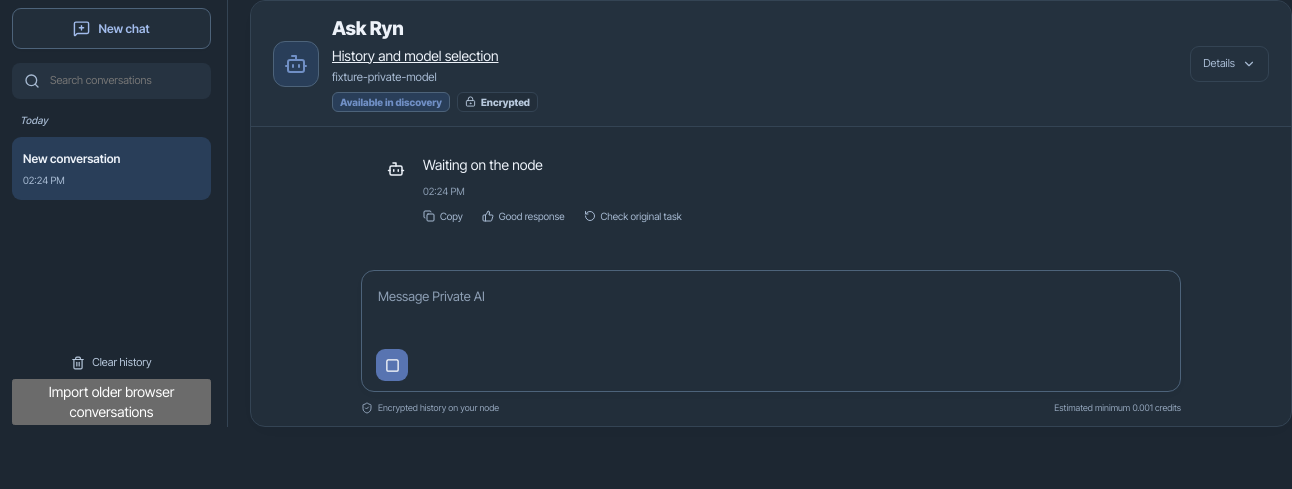
Test: Private AI chat › recovers the composer when the node has no record of the task being cancelled
Expected: the heading "Ask Ryn" is shown, [332,17,404,40]
Expected: the text "Waiting on the node" is shown, [423,156,543,173]
Type "Ready to retry" into the text box labelled "Message Private AI" at (771, 314), box [376,283,1166,345]
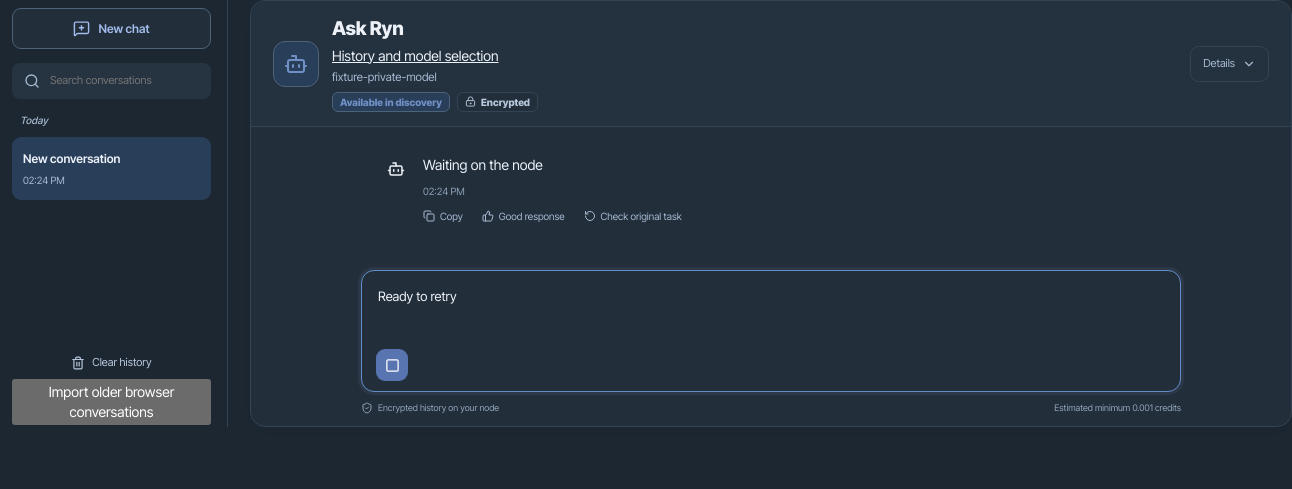
Click the button named "Stop generating" at (392, 365), box [376,349,408,381]
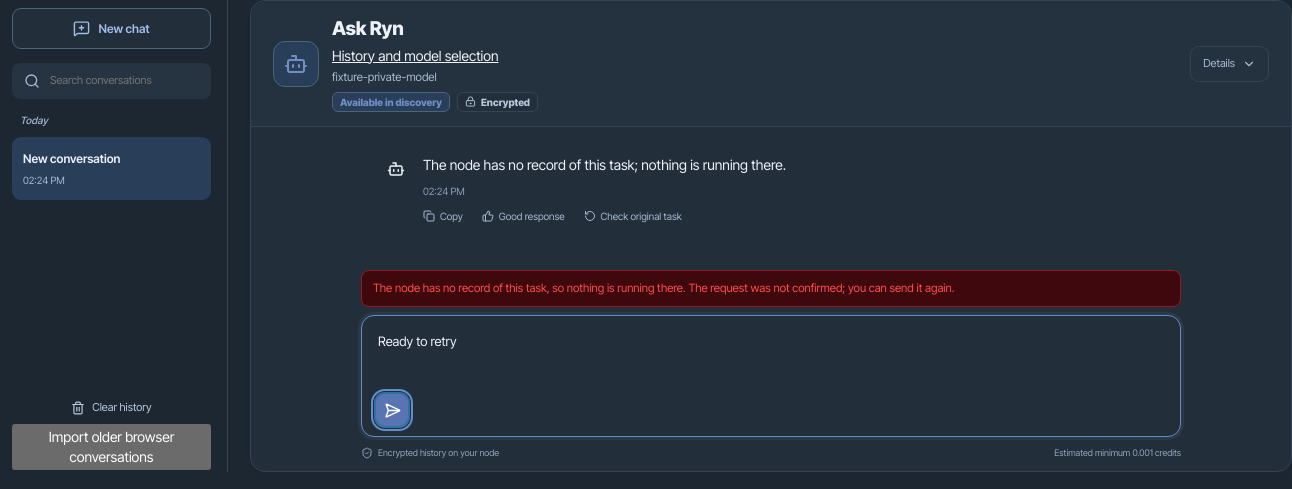
Expected: the button named "Send message" is enabled, [376,394,408,426]
Expected: the message shows "The node has no record of this task, so nothing is running there. The request was not confirmed; you can send it again.", [373,281,954,295]
Expected: the text "The node has no record of this task; nothing is running there." is shown, [423,152,786,178]
